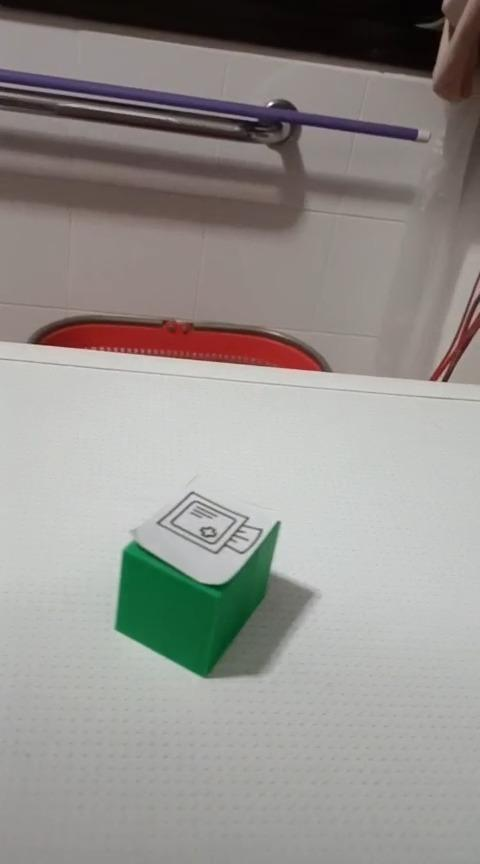Gauze: (113, 487, 282, 677)
